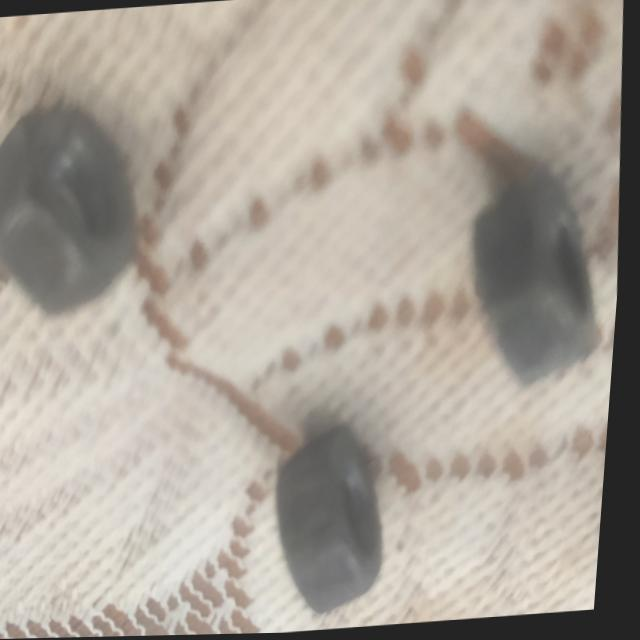disinfected nut: (0, 108, 139, 315), (477, 174, 602, 385), (283, 427, 390, 615)
